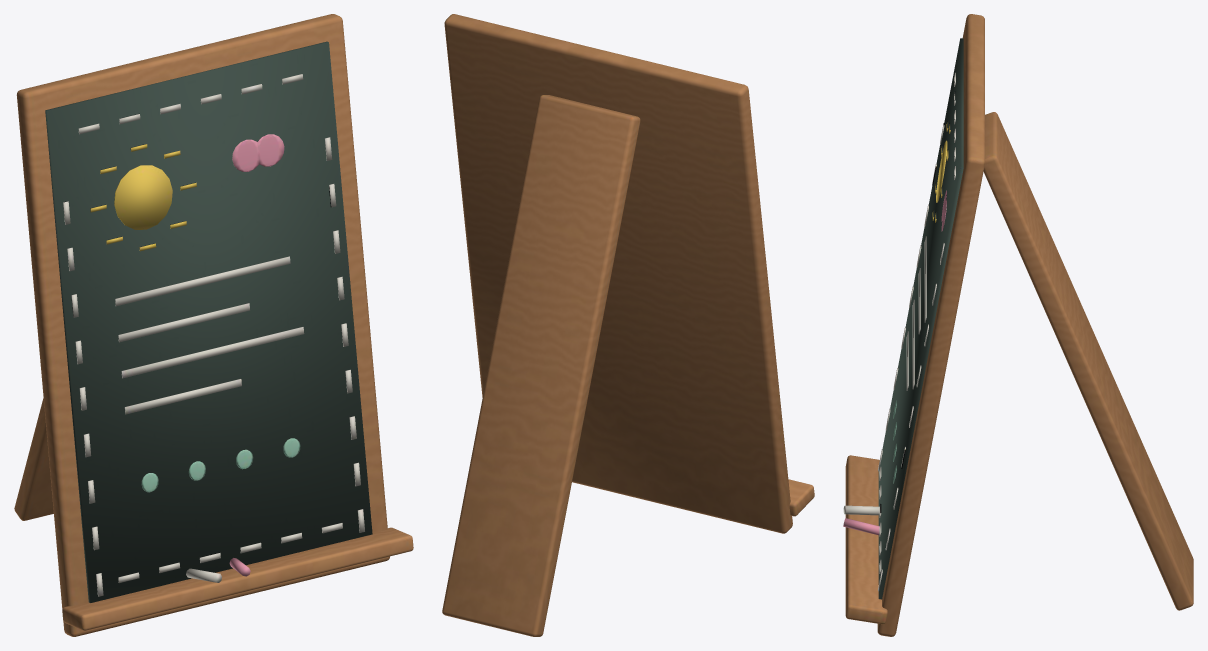
File: tm-chalkboard.glb
3 views of the same model, side by side, from view 1: azimuth 30°, elevation 25°; view 2: azimuth 150°, elevation 25°; view 3: azimuth 270°, elevation 25° (orthographic). The views are drawn at different scales.
Parts seen in each view (by area): view 1: tm-chalkboard; view 2: tm-chalkboard; view 3: tm-chalkboard.
Boxes of the visible parts, x1,y1,x2,y2 form: tm-chalkboard: (14, 14, 413, 636); tm-chalkboard: (442, 14, 814, 636); tm-chalkboard: (843, 14, 1193, 636).
Size of the model in its own units: 0.456 by 0.7049 by 0.4449.
1 material, 1 textured.
